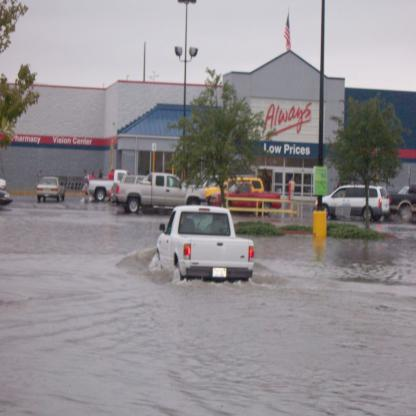Car: (327, 182, 400, 219), (204, 175, 266, 199), (390, 185, 416, 221), (38, 176, 66, 202), (187, 176, 211, 188), (0, 190, 13, 208), (121, 175, 146, 184), (0, 177, 6, 190)
Truck: (156, 193, 262, 289), (113, 172, 208, 214), (206, 182, 286, 216), (84, 168, 132, 200)
